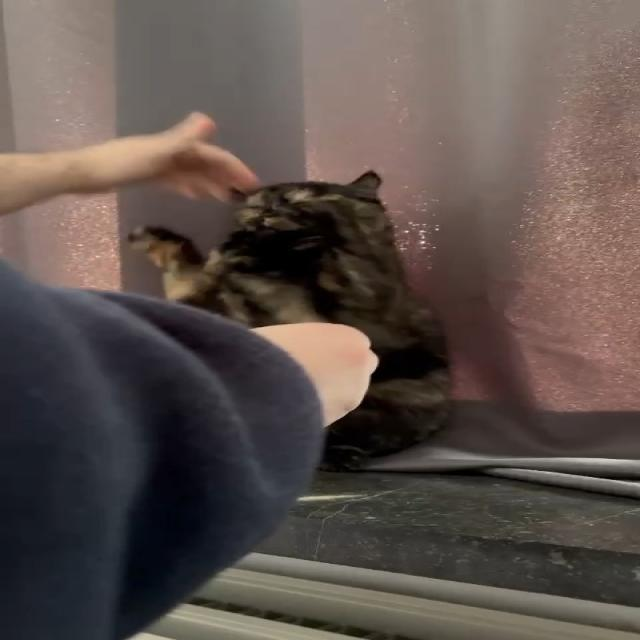authorized: (125, 168, 455, 472)
